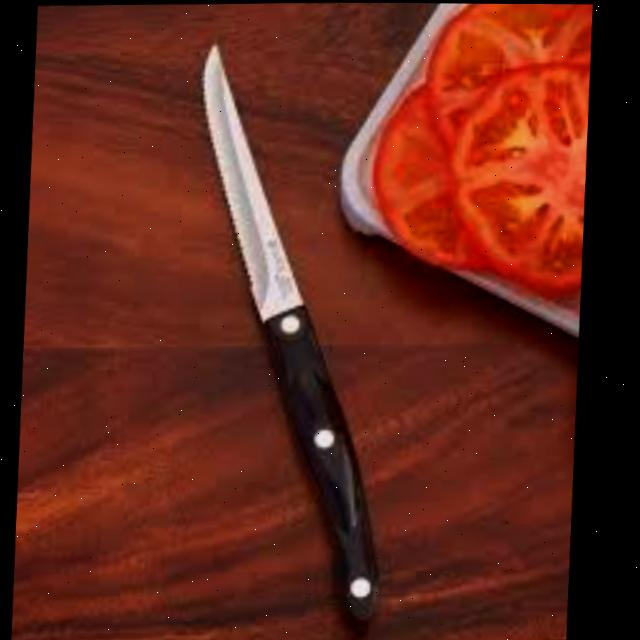Knife: (172, 34, 411, 629)
